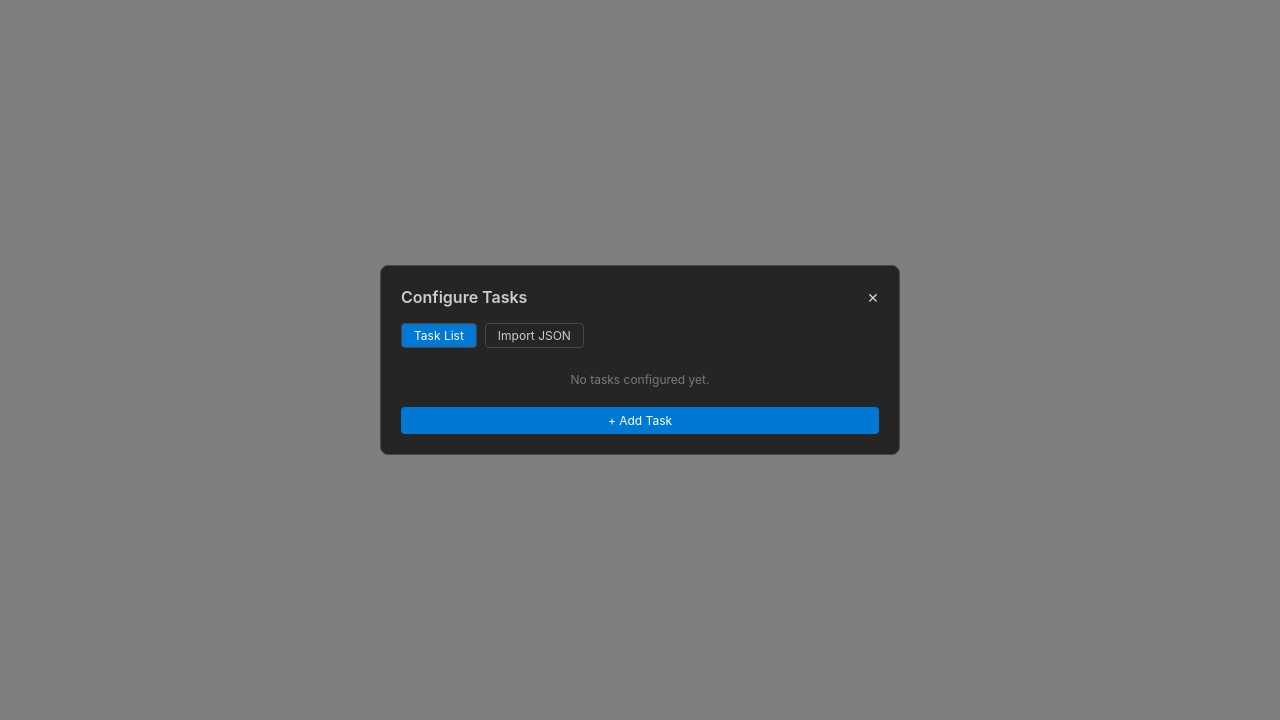
Test: ConfigureTasksDialogViewPresenter › hides edit form when cancel button is clicked
The image size is (1280, 720).
Click the button "+ Add Task" at (640,420), box [401, 407, 879, 434]
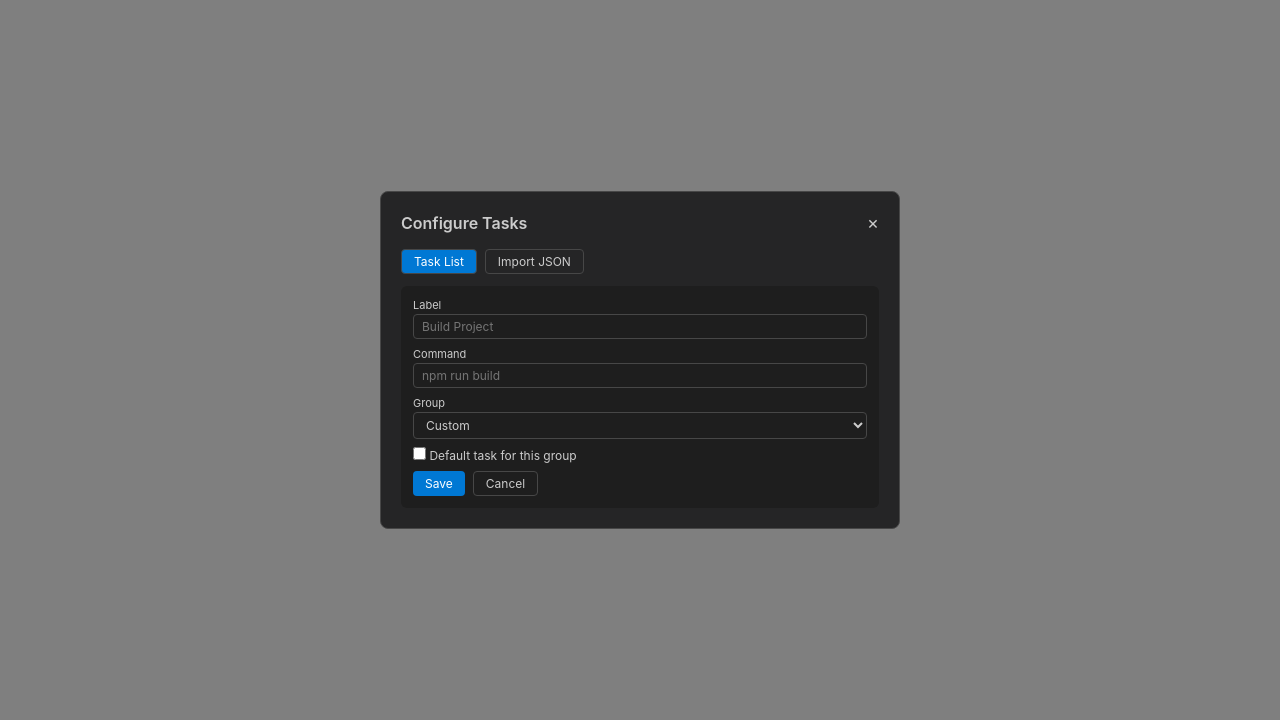
Click the button "Cancel" at (506,484), box [473, 471, 538, 496]
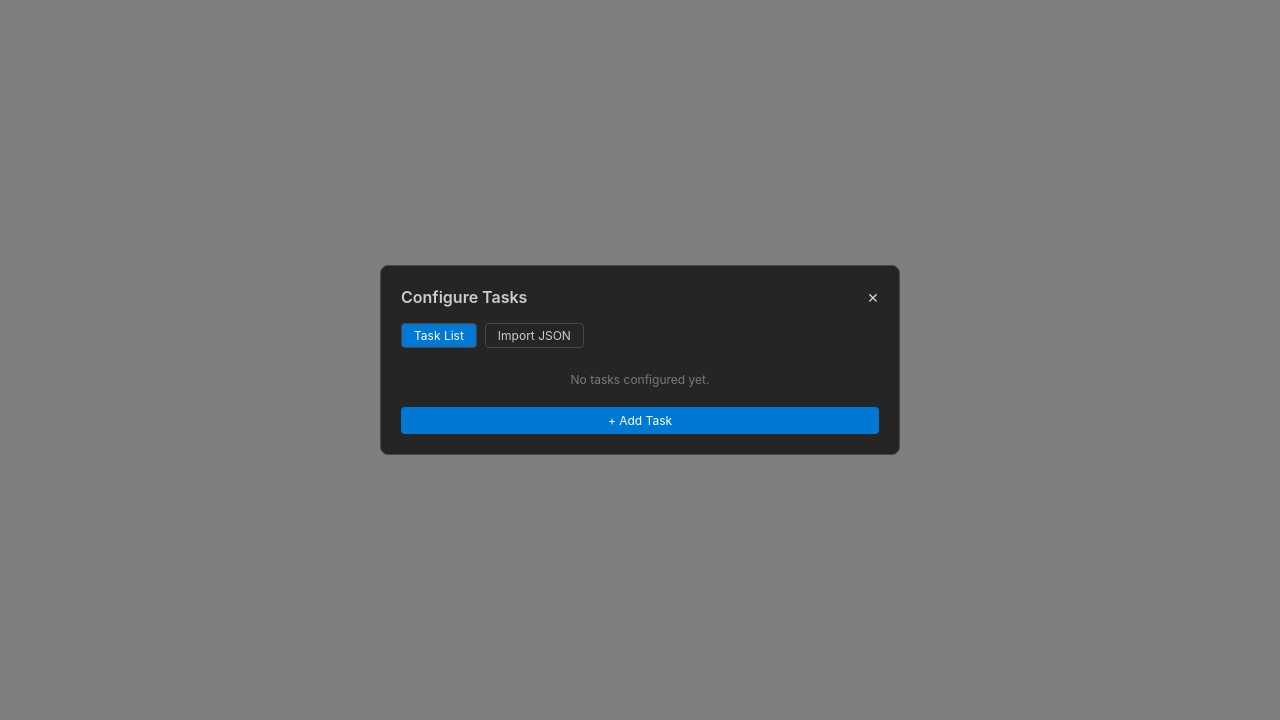
Check: the text "No tasks configured yet." is shown, box [571, 372, 709, 387]
